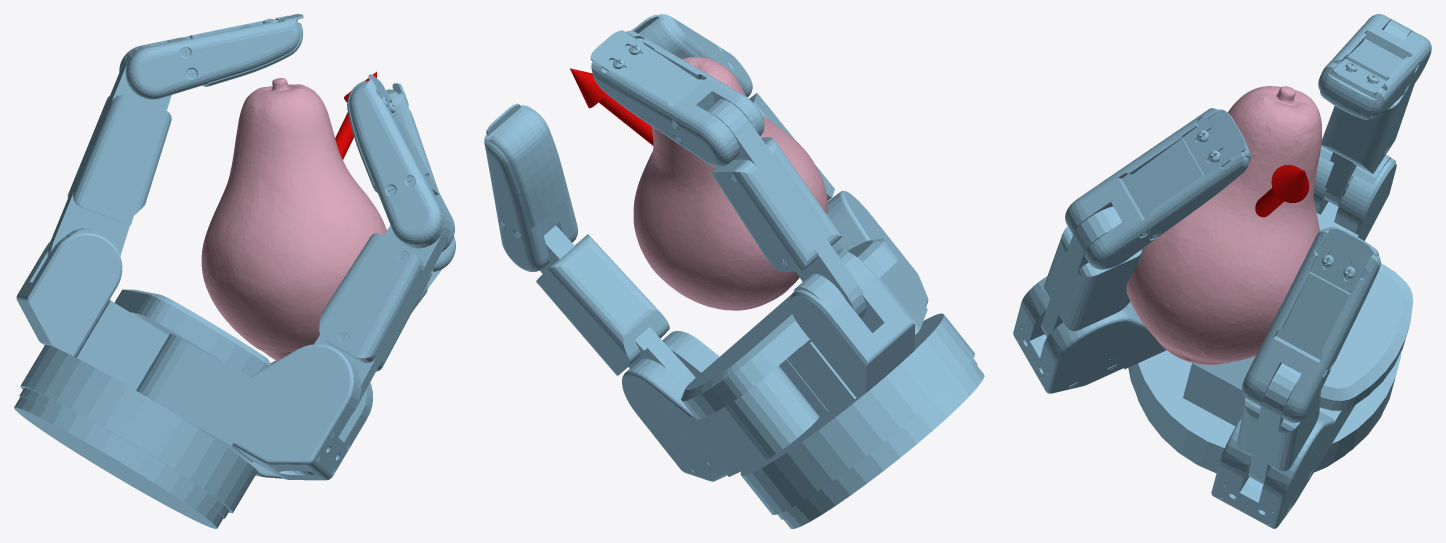
3 renders of one model, left to right at view 1: azimuth 30°, elevation 25°; view 2: azimuth 150°, elevation 25°; view 3: azimuth 270°, elevation 25°, orthographic. The views are drawn at different scales.
Visible parts, largest first — view 1: world, pear.stl; view 2: world, pear.stl; view 3: world, pear.stl.
Part boxes in pixels (<box>): world: <box>14,14,455,528</box>; pear.stl: <box>201,78,386,360</box>; world: <box>484,14,984,528</box>; pear.stl: <box>633,57,827,310</box>; world: <box>1013,14,1431,528</box>; pear.stl: <box>1126,86,1321,364</box>.
Size of the model in its own units: 0.1769 by 0.1761 by 0.1368.
